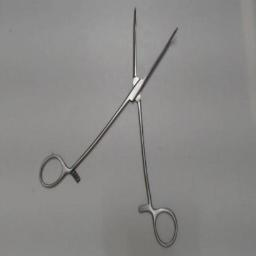Lahey Forceps: (38, 4, 182, 252)
